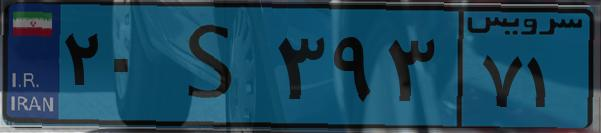0: (110, 28, 158, 98)
1: (525, 38, 570, 115)
2: (57, 26, 110, 100)
3: (270, 28, 330, 110), (385, 28, 445, 110)
7: (475, 38, 525, 113)
9: (330, 28, 385, 110)
S: (158, 12, 270, 120)
